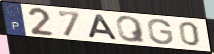0: (177, 20, 204, 48)
2: (27, 6, 56, 37)
7: (58, 9, 82, 38)
A: (86, 13, 120, 41)
G: (147, 18, 175, 46)
Q: (114, 15, 147, 44)
